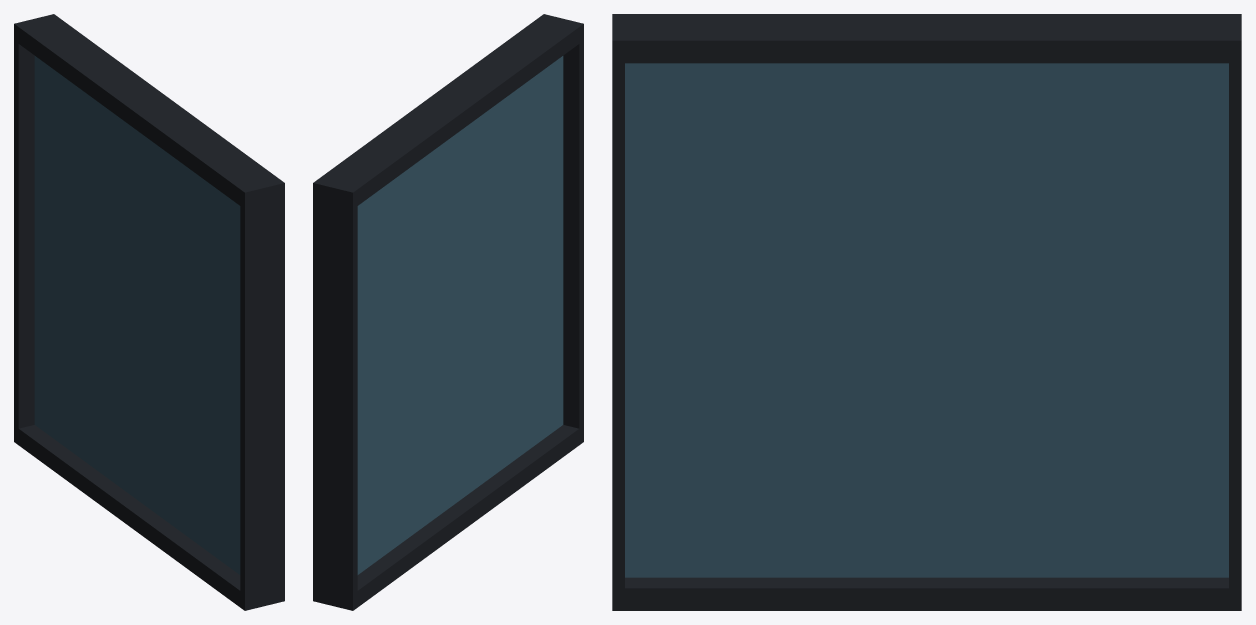
File: modern-glass.glb
3 views of the same model, side by side, from view 1: azimuth 30°, elevation 25°; view 2: azimuth 150°, elevation 25°; view 3: azimuth 270°, elevation 25° (orthographic). The views are drawn at different scales.
Visible parts, largest first — view 1: modern-glass; view 2: modern-glass; view 3: modern-glass.
Boxes of the visible parts, x1,y1,x2,y2 form: modern-glass: [14, 14, 284, 610]; modern-glass: [313, 14, 583, 610]; modern-glass: [612, 14, 1241, 610].
Size of the model in its own units: 0.1 by 1 by 1.
